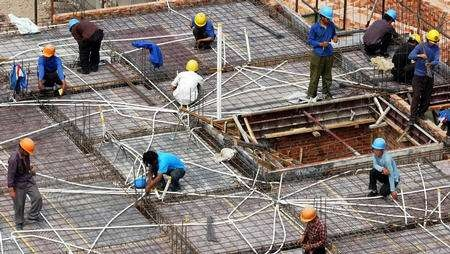blue: (317, 5, 334, 23), (371, 136, 385, 157), (383, 9, 397, 24), (67, 17, 79, 33)
none: (141, 147, 159, 167)
yellow: (18, 136, 37, 157), (299, 205, 317, 225), (425, 29, 441, 48), (40, 42, 56, 58), (192, 11, 207, 28), (184, 57, 199, 74), (408, 32, 420, 48)
